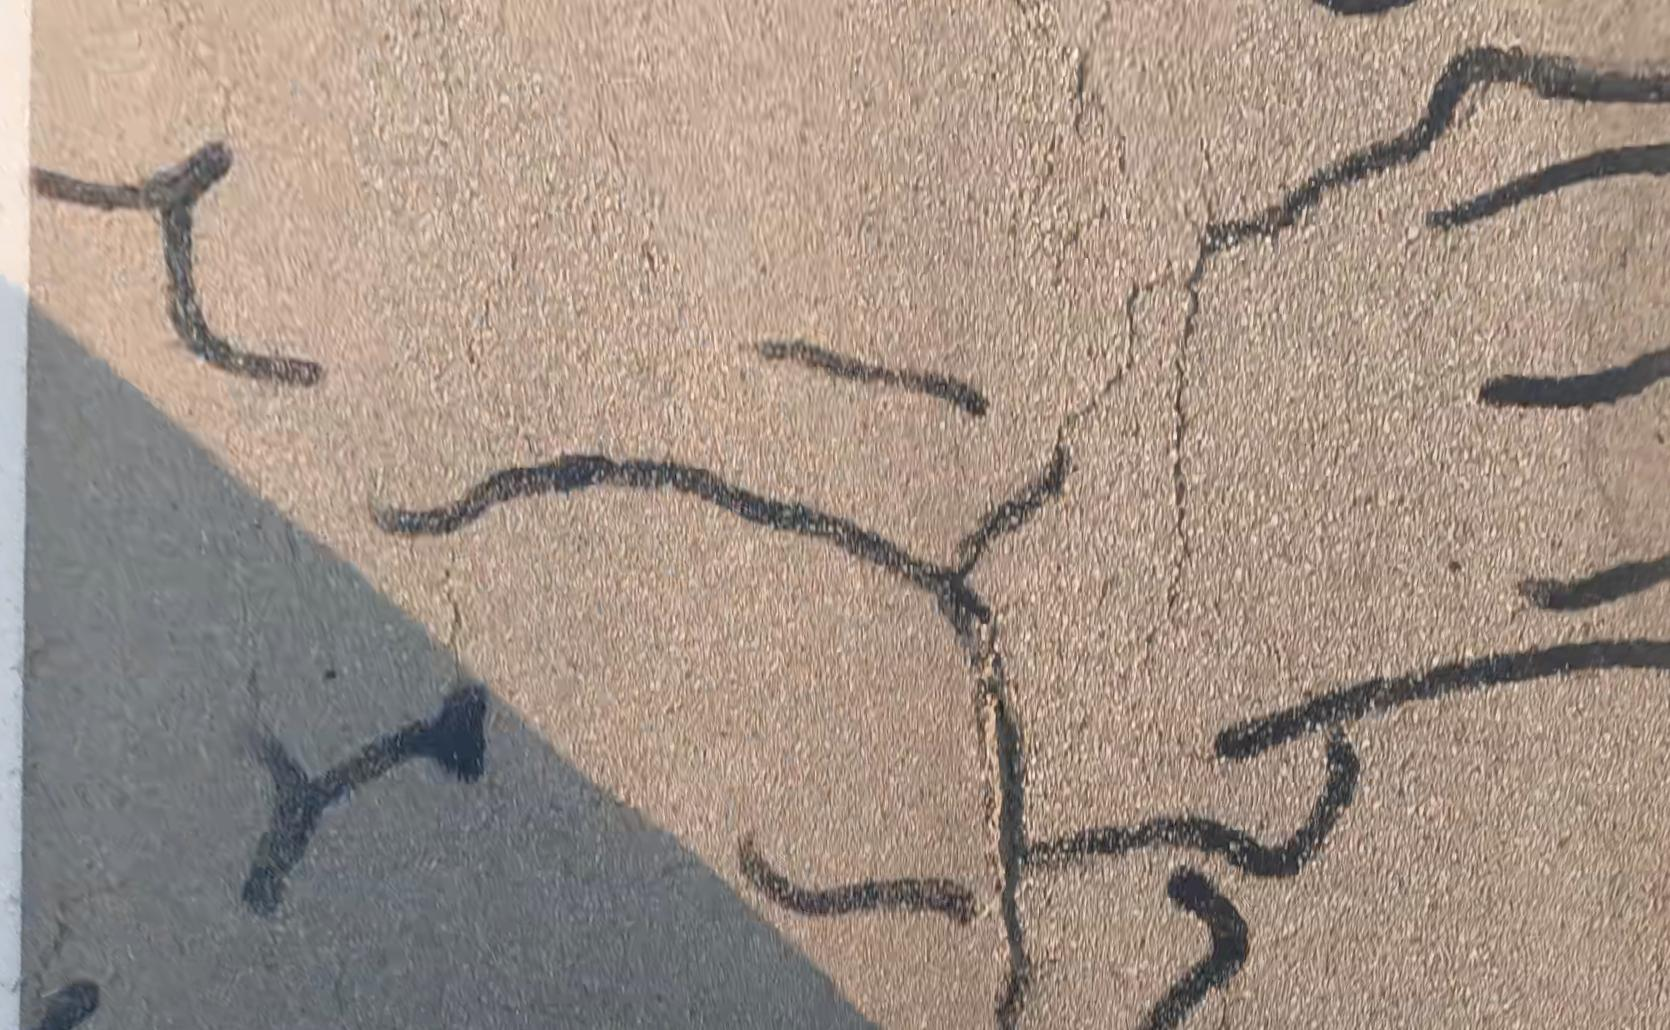pothole: (986, 691, 1031, 1030)
